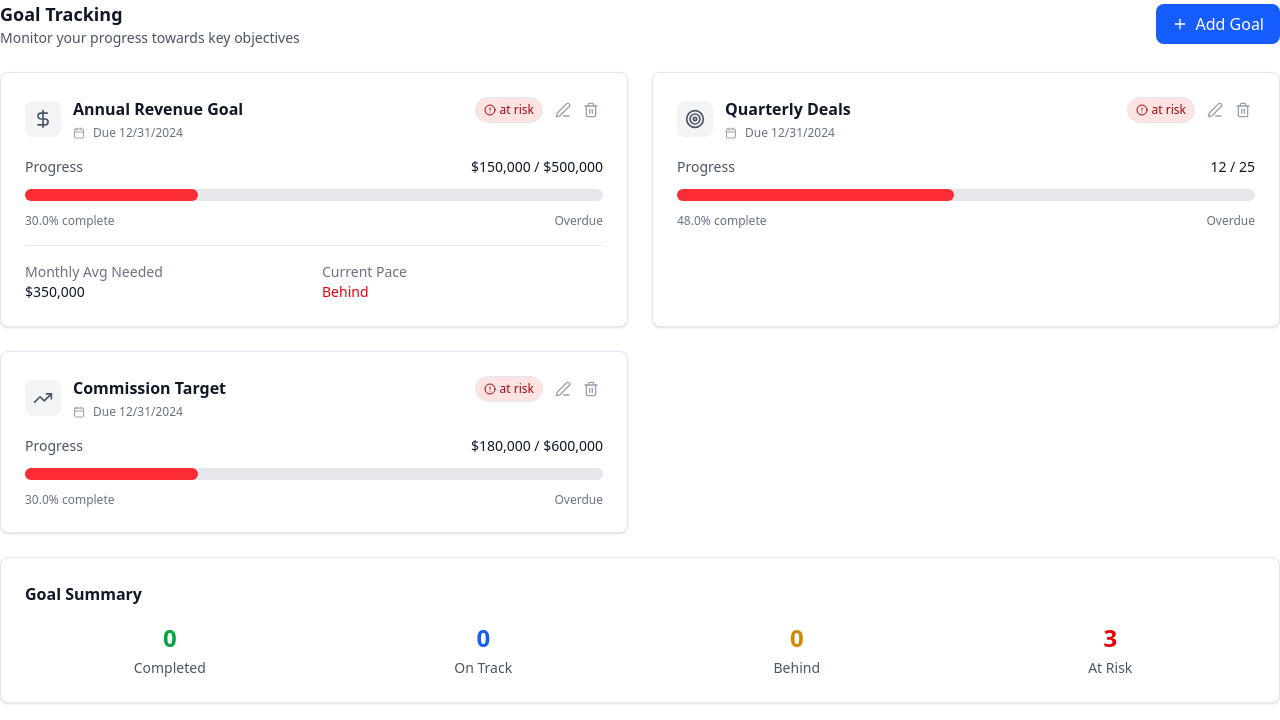
GoalTracker › should close add goal modal when Cancel is clicked
The width and height of the screenshot is (1280, 720).
What coordinates should you click on to do the following:
click the button "Add Goal"
I would click on:
 (1218, 24)
Its box is [1156,4,1279,44].
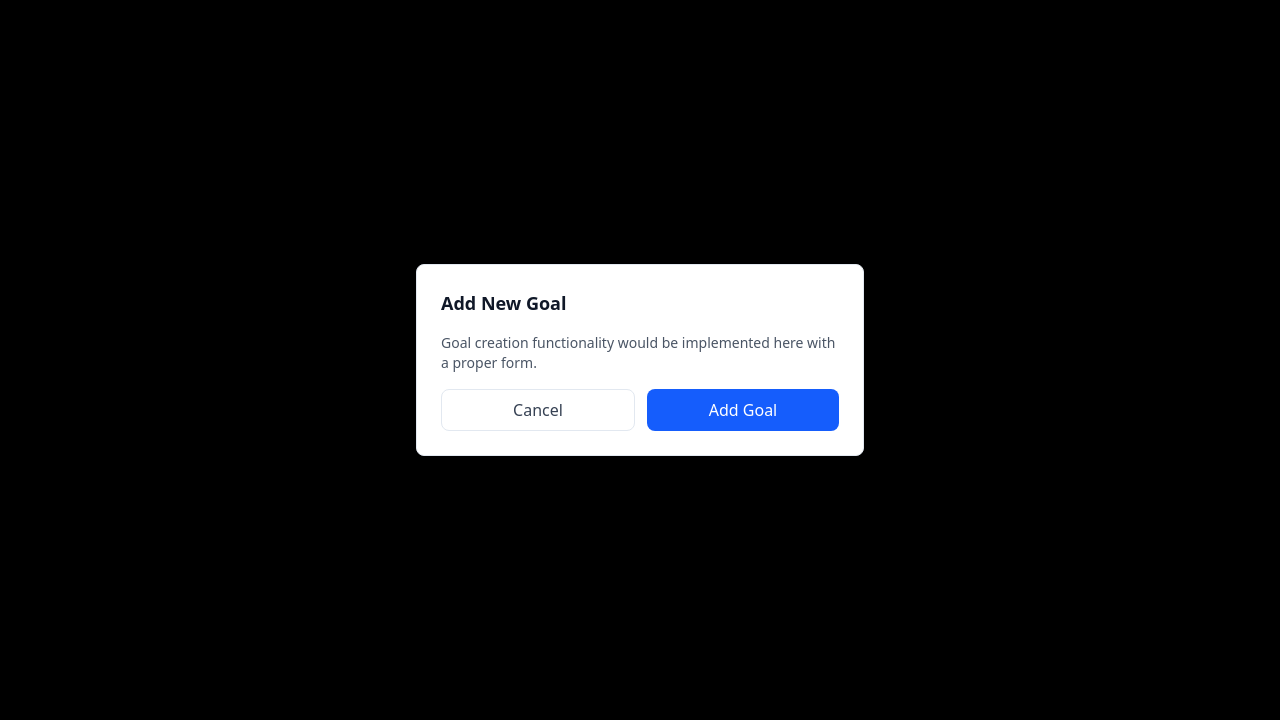
Result: the heading "Add New Goal" is shown at [441,291,566,315]
What coordinates should you click on to do the following:
click the button "Cancel"
I would click on:
 (538, 410)
Its box is [441,389,635,431].
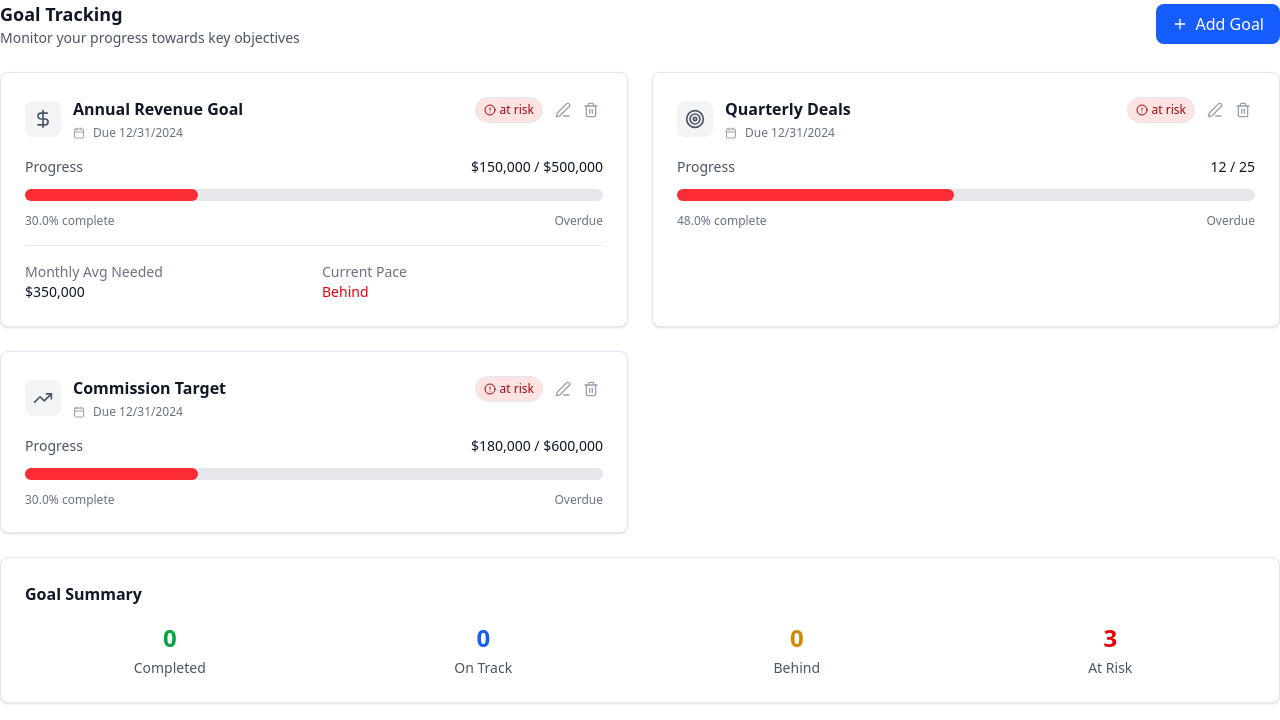
Result: the heading "Add New Goal" is gone
